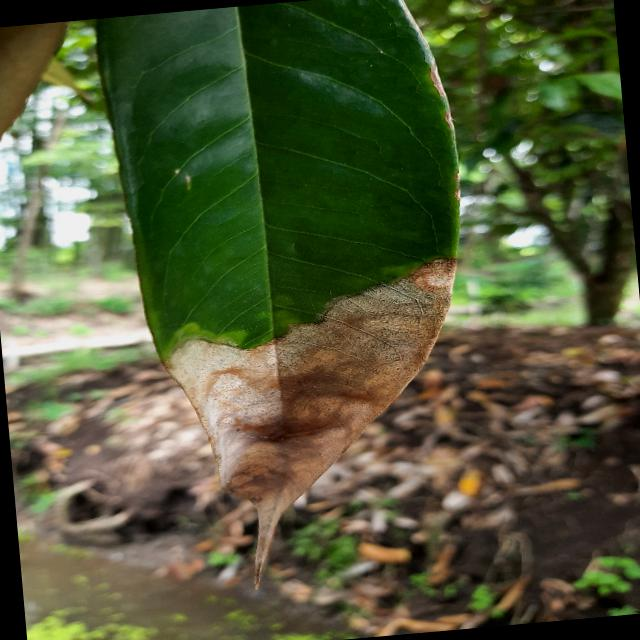Leaf Blight: (86, 0, 503, 609)
